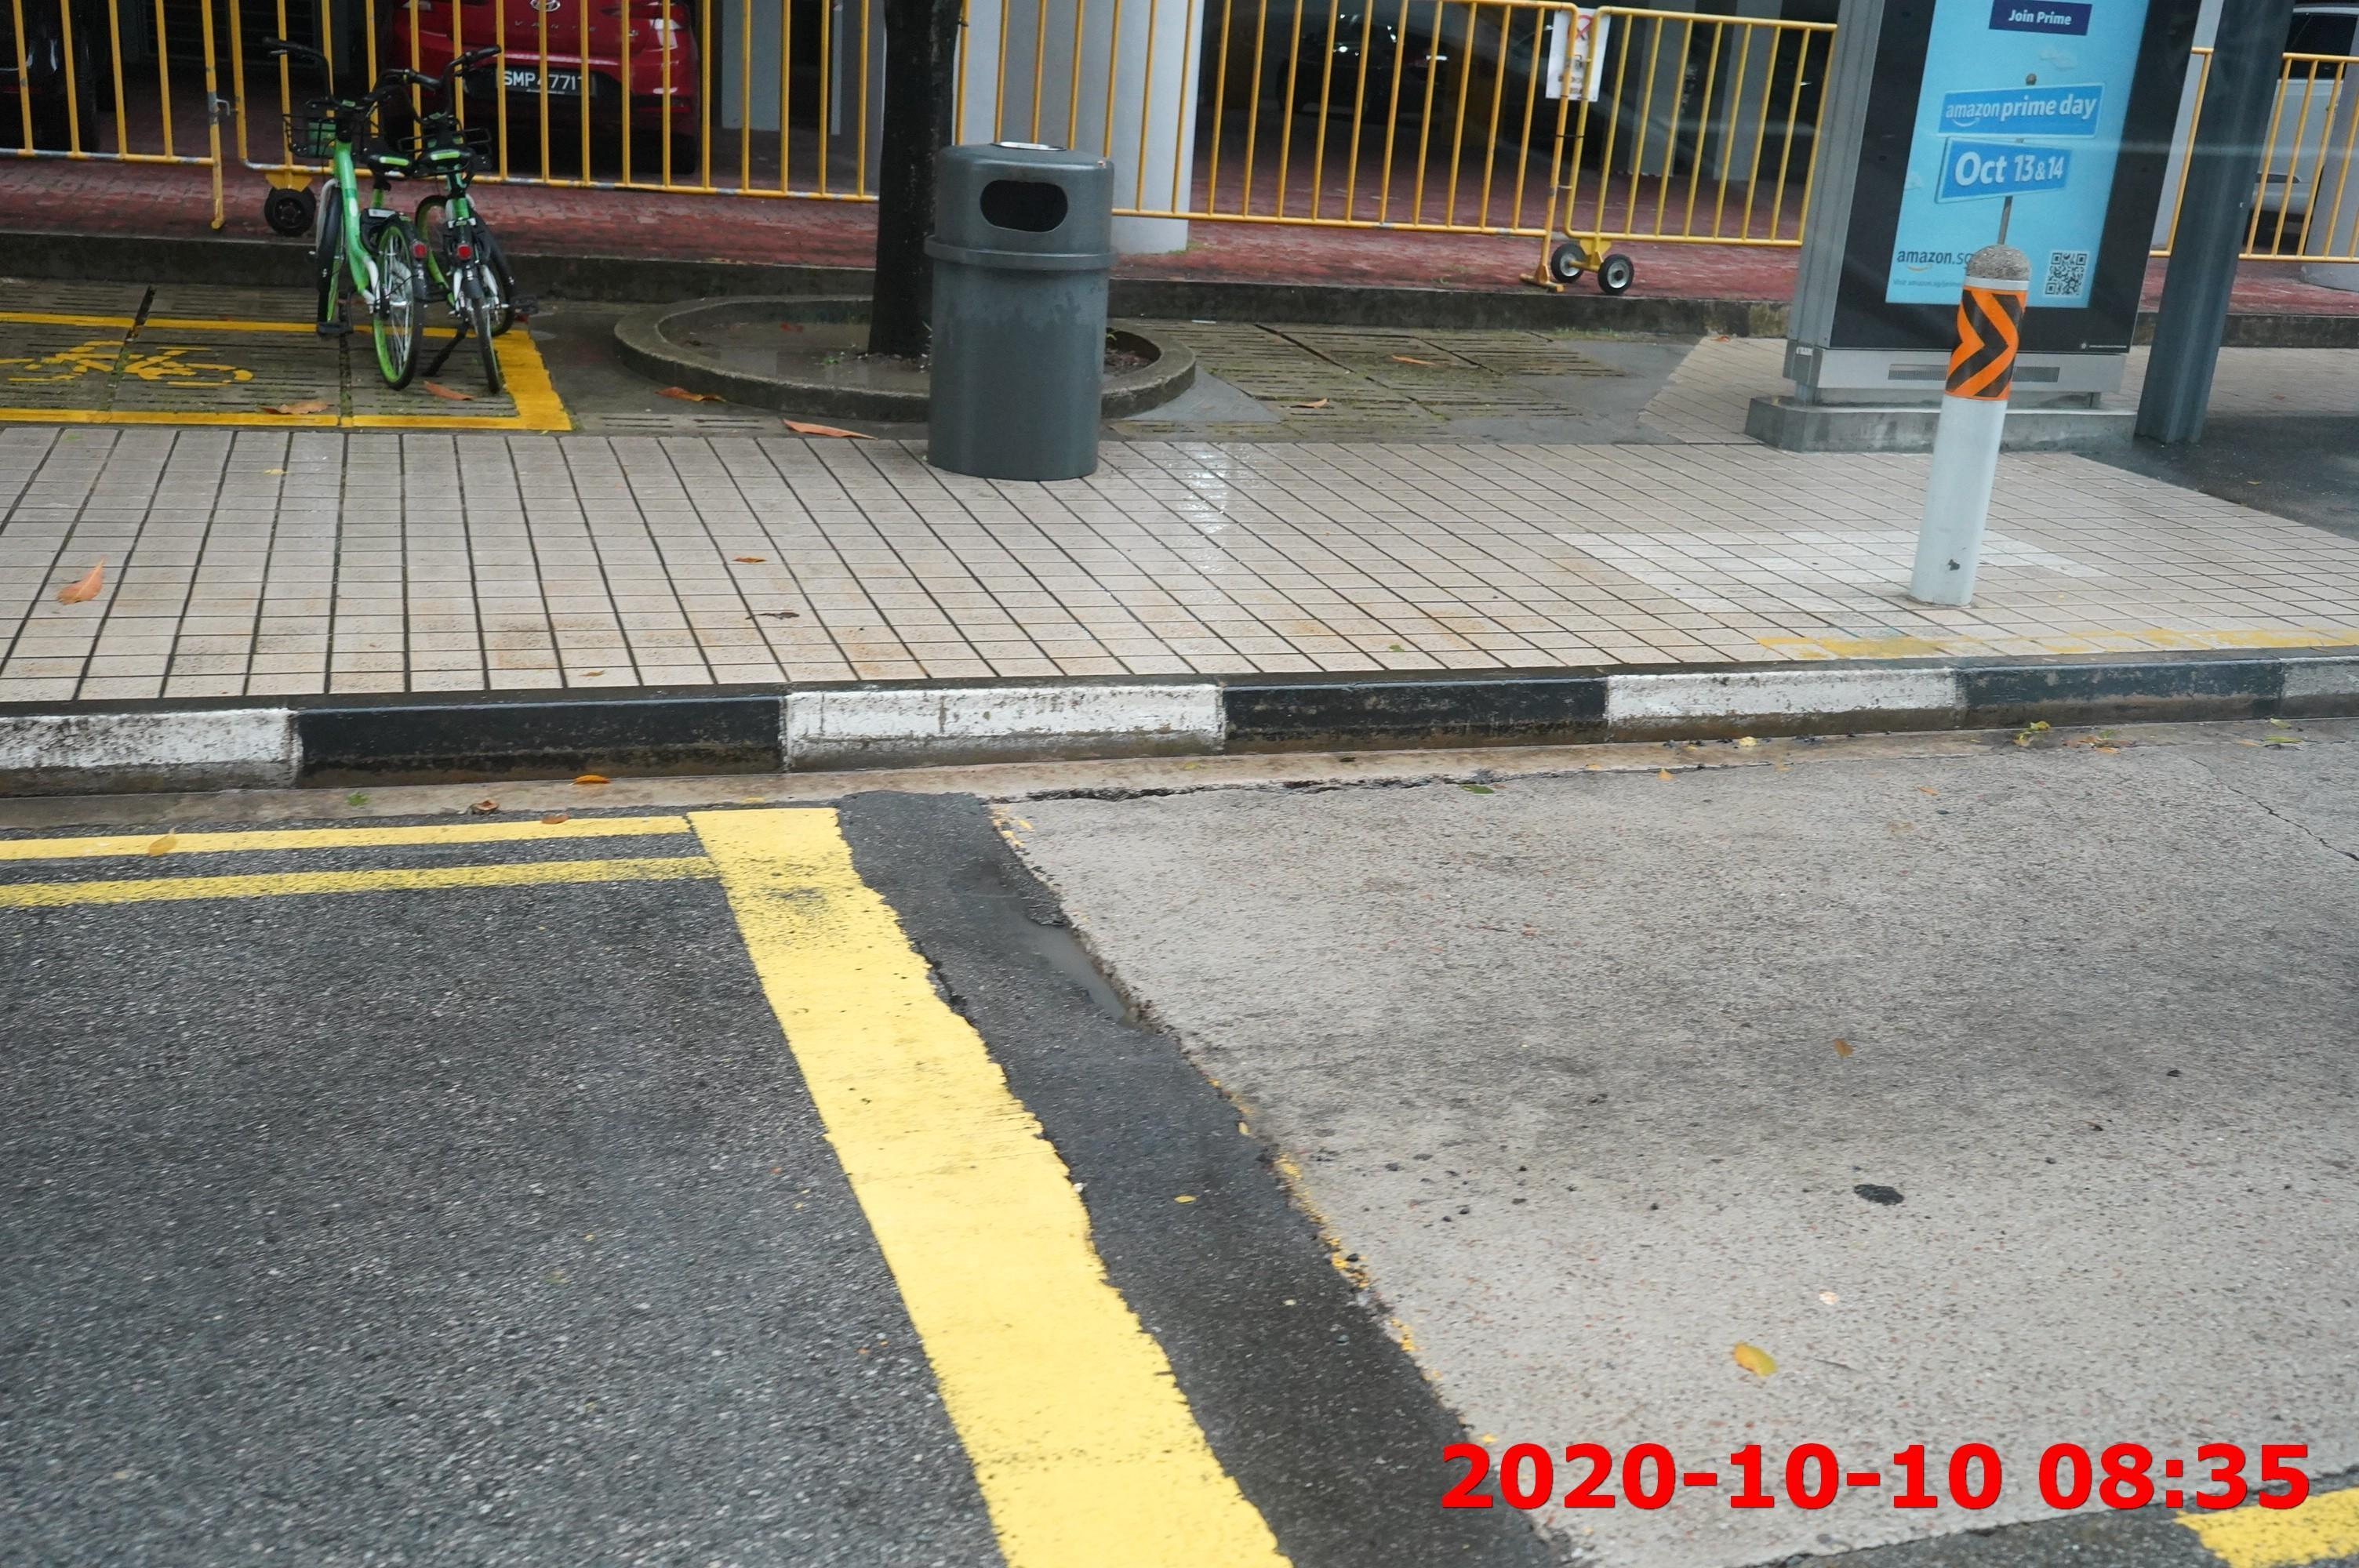peeling off premix: (1853, 1178, 1908, 1208)
